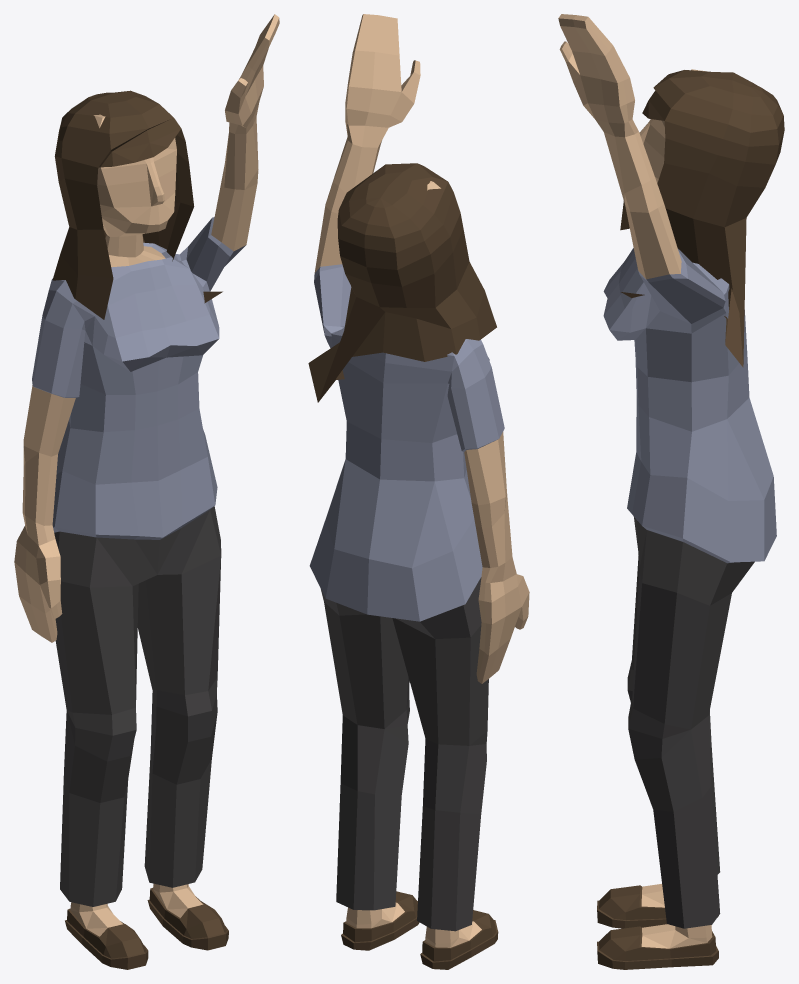
The model's file is Female_Crowd_LeftFistPump.glb.
3 views of the same model, side by side, from view 1: azimuth 30°, elevation 25°; view 2: azimuth 150°, elevation 25°; view 3: azimuth 270°, elevation 25° (orthographic). The views are drawn at different scales.
Visible parts, largest first — view 1: Female_Crowd_LeftFistPump; view 2: Female_Crowd_LeftFistPump; view 3: Female_Crowd_LeftFistPump.
Part boxes in pixels (x1=…): Female_Crowd_LeftFistPump: x1=14, y1=14, x2=279, y2=969; Female_Crowd_LeftFistPump: x1=308, y1=14, x2=529, y2=969; Female_Crowd_LeftFistPump: x1=558, y1=14, x2=784, y2=969.
Bounding box in the file's own units: 0.4473 × 1.87 × 0.3947.
